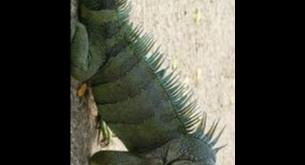Non_Gorille: (76, 0, 235, 165)
